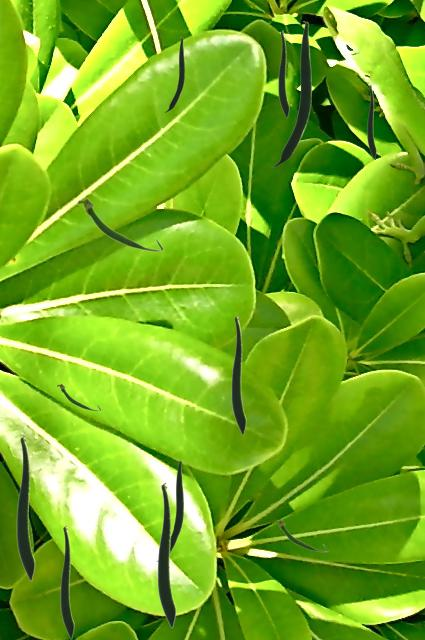french_bean: (271, 21, 310, 166), (76, 197, 163, 251), (157, 482, 175, 627), (16, 435, 34, 580), (274, 519, 327, 551), (231, 315, 245, 434), (60, 525, 73, 638), (165, 37, 183, 111), (56, 383, 100, 410), (171, 460, 182, 552), (278, 30, 288, 117), (367, 84, 375, 158)
